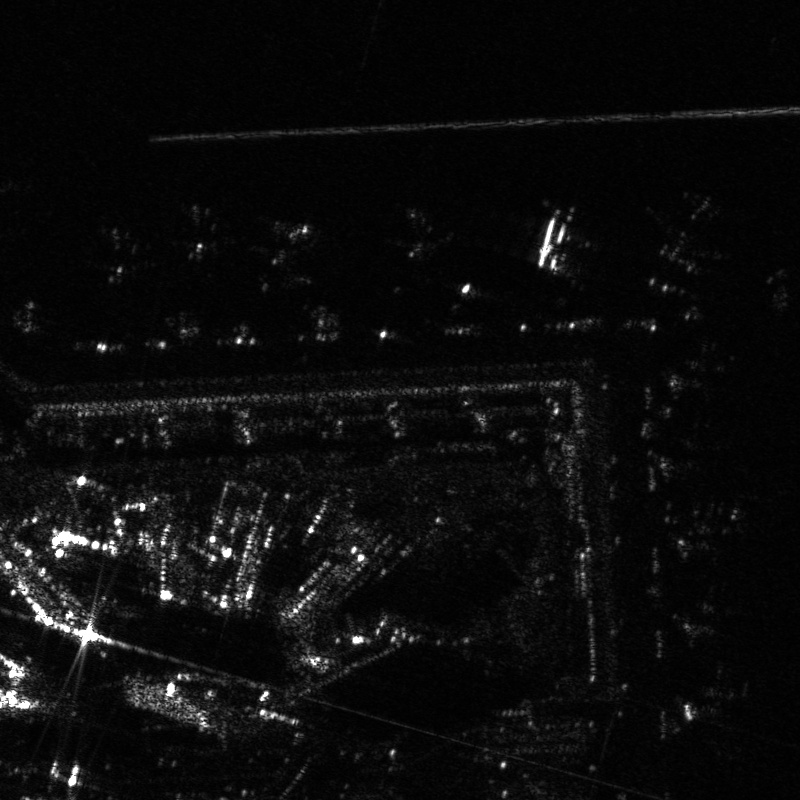A220: (169, 203, 246, 275)
A320/321: (645, 188, 744, 289)
Boeing737: (81, 228, 166, 294)
Boeing787: (519, 204, 601, 281), (379, 204, 454, 282)
other: (252, 218, 317, 294)
